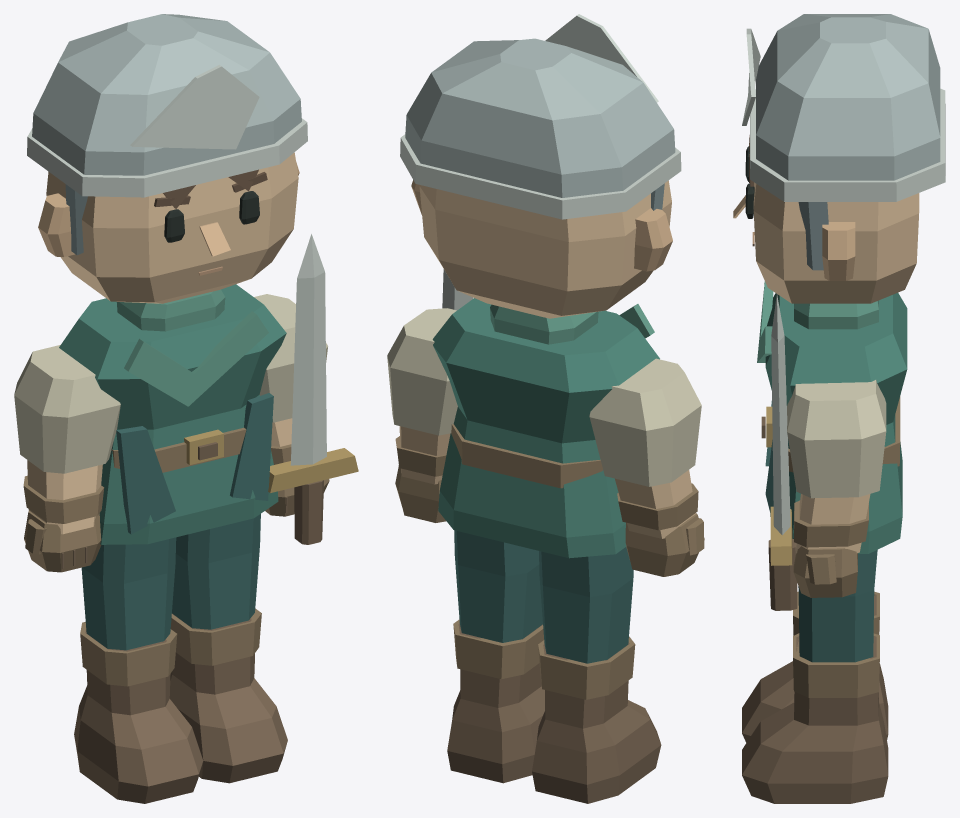
Rendered from warrior.glb.
The picture shows the model from 3 angles, left to right: view 1: azimuth 30°, elevation 25°; view 2: azimuth 150°, elevation 25°; view 3: azimuth 270°, elevation 25°; orthographic projection.
Visible parts, largest first — view 1: Helmet plate shell, Tunic tailored body, Sculpted jaw cheeks forehead, Boot shaped ankle and toe L, Boot shaped ankle and toe R, Sleeve L, Trouser L, Trouser R, Sword blade, Helmet crown plane, Helmet brow rim, Cross folded scarf (+17 smaller); view 2: Tunic tailored body, Helmet plate shell, Sculpted jaw cheeks forehead, Boot shaped ankle and toe L, Sleeve L, Trouser L, Boot shaped ankle and toe R, Trouser R, Sleeve R, Helmet brow rim, Leather belt, Boot cuff L (+11 smaller); view 3: Helmet plate shell, Boot shaped ankle and toe R, Sculpted jaw cheeks forehead, Tunic tailored body, Sleeve R, Trouser R, Helmet brow rim, Sword blade, Boot cuff R, Boot shaped ankle and toe L, Glove palm R, Raised collar (+11 smaller).
Part boxes in pixels (x1=…): Helmet plate shell: x1=32, y1=14, x2=301, y2=175; Tunic tailored body: x1=59, y1=284, x2=286, y2=544; Sculpted jaw cheeks forehead: x1=46, y1=152, x2=298, y2=303; Boot shaped ankle and toe L: x1=74, y1=628, x2=203, y2=803; Boot shaped ankle and toe R: x1=169, y1=613, x2=287, y2=783; Sleeve L: x1=14, y1=344, x2=120, y2=473; Trouser L: x1=81, y1=537, x2=176, y2=650; Trouser R: x1=172, y1=514, x2=260, y2=629; Sword blade: x1=290, y1=234, x2=326, y2=465; Helmet crown plane: x1=130, y1=64, x2=259, y2=149; Helmet brow rim: x1=27, y1=118, x2=307, y2=197; Cross folded scarf: x1=124, y1=311, x2=268, y2=406; Tunic tailored body: x1=432, y1=298, x2=659, y2=558; Helmet plate shell: x1=405, y1=38, x2=675, y2=197; Sculpted jaw cheeks forehead: x1=419, y1=180, x2=671, y2=318; Boot shaped ankle and toe L: x1=532, y1=642, x2=661, y2=803; Sleeve L: x1=589, y1=358, x2=701, y2=486; Trouser L: x1=539, y1=547, x2=633, y2=663; Boot shaped ankle and toe R: x1=447, y1=623, x2=544, y2=783; Trouser R: x1=454, y1=530, x2=542, y2=642; Sleeve R: x1=387, y1=308, x2=457, y2=435; Helmet brow rim: x1=400, y1=134, x2=681, y2=219; Leather belt: x1=451, y1=424, x2=602, y2=488; Boot cuff L: x1=538, y1=636, x2=635, y2=699; Helmet plate shell: x1=756, y1=14, x2=940, y2=180; Boot shaped ankle and toe R: x1=742, y1=636, x2=888, y2=803; Sculpted jaw cheeks forehead: x1=753, y1=182, x2=919, y2=303; Tunic tailored body: x1=765, y1=292, x2=907, y2=553; Sleeve R: x1=787, y1=380, x2=886, y2=498; Trouser R: x1=798, y1=550, x2=877, y2=662; Helmet brow rim: x1=750, y1=88, x2=945, y2=201; Sword blade: x1=771, y1=294, x2=790, y2=535; Boot cuff R: x1=793, y1=633, x2=879, y2=697; Boot shaped ankle and toe L: x1=742, y1=594, x2=888, y2=742; Glove palm R: x1=793, y1=546, x2=857, y2=597; Raised collar: x1=794, y1=300, x2=878, y2=329.
Size of the model in its own units: 0.76 by 1.71 by 0.449.
